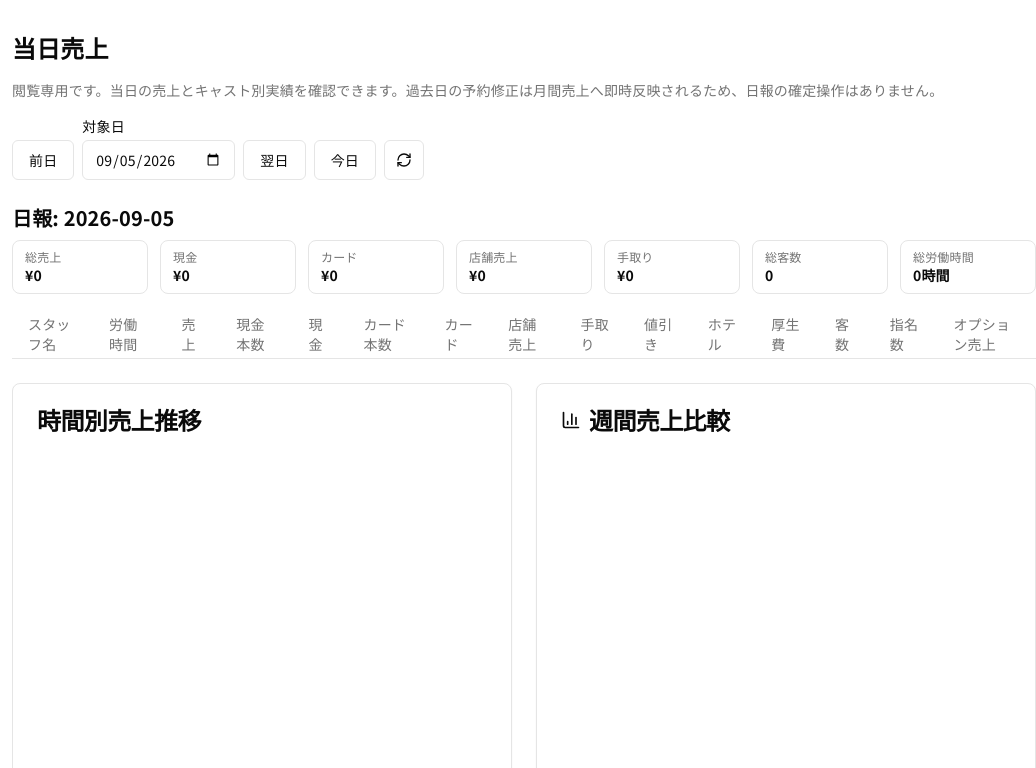
Test: DailyReportPageClient › changes the API business date from a native date input and quick navigation buttons
Expected: the heading "日報: 2026-09-05" is shown, [12,204,174,232]
In the date field named "日報の日付": x=159, y=160 [82,140,235,180], type "2026-08-10"
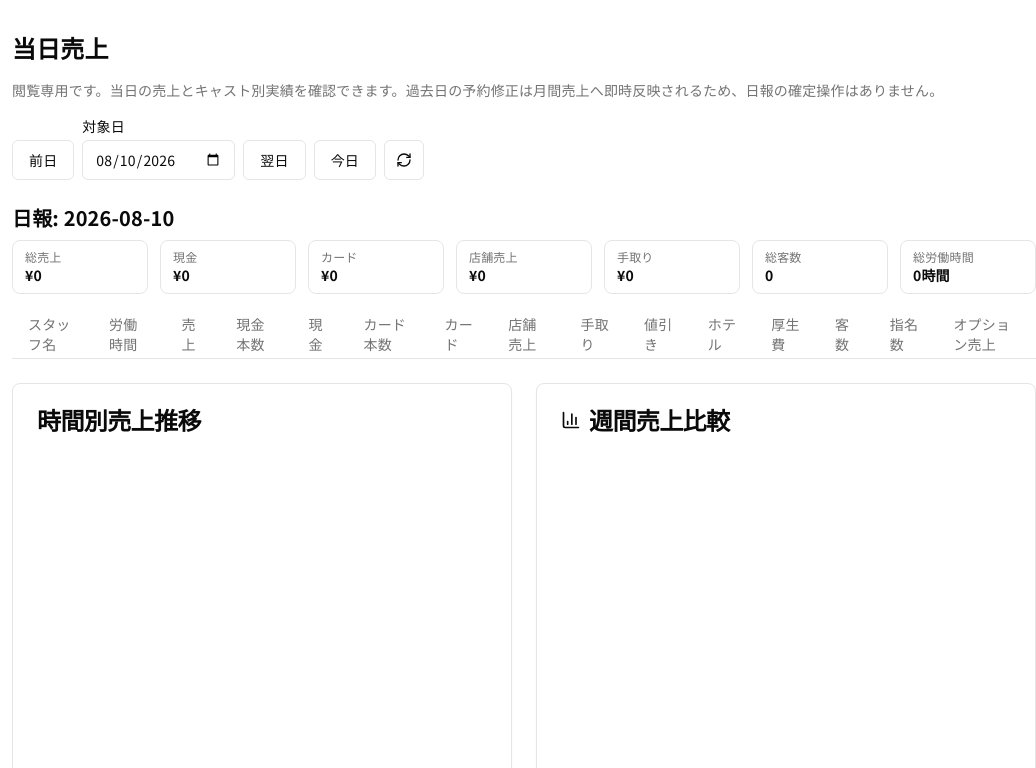
Click the button "前日": x=43, y=160 [12,140,74,180]
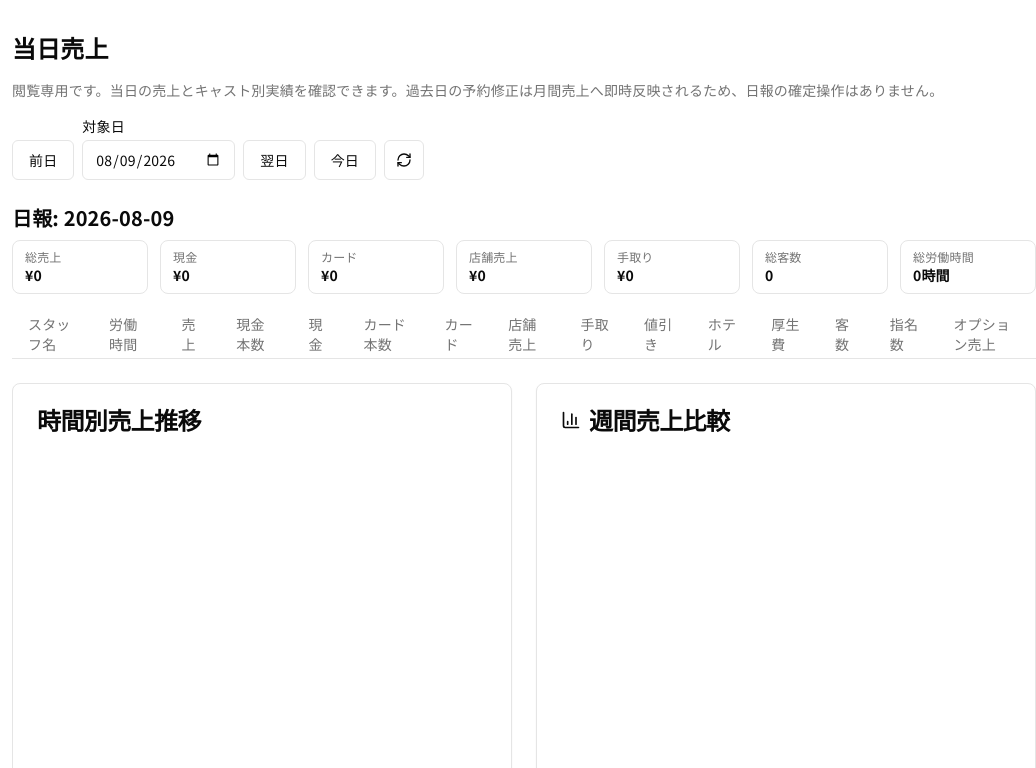
Click the button "翌日": x=274, y=160 [243,140,306,180]
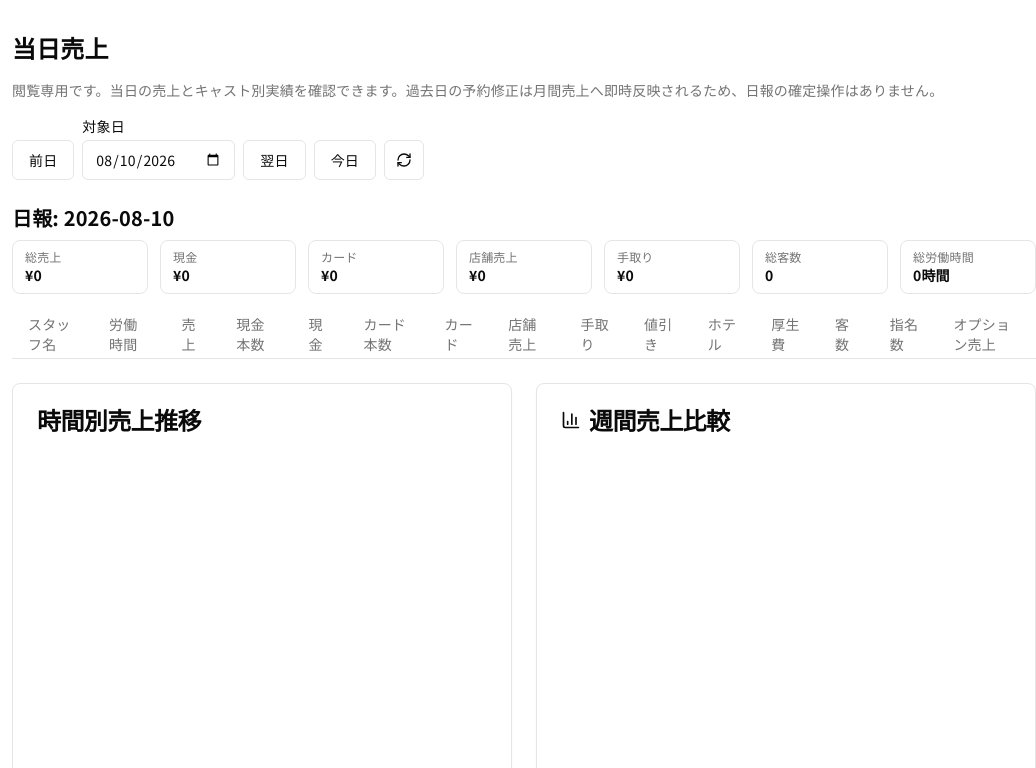
Click the button "今日": x=345, y=160 [314,140,376,180]
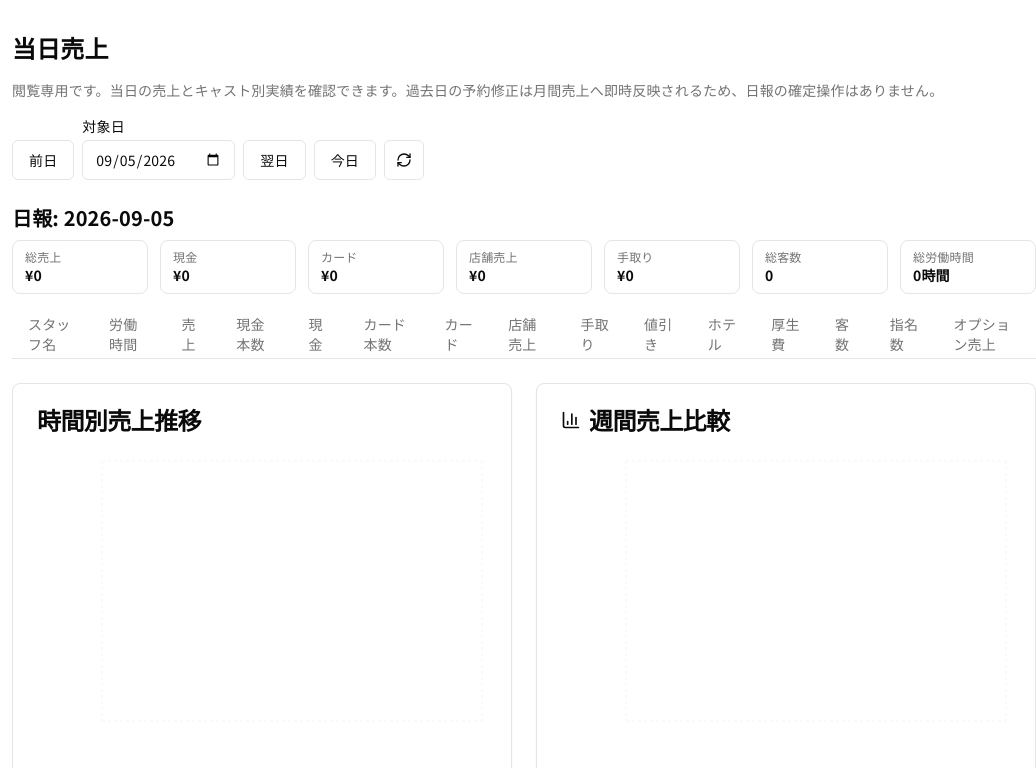
Result: the date field named "日報の日付" holds "2026-09-05" at [82,140,235,180]
